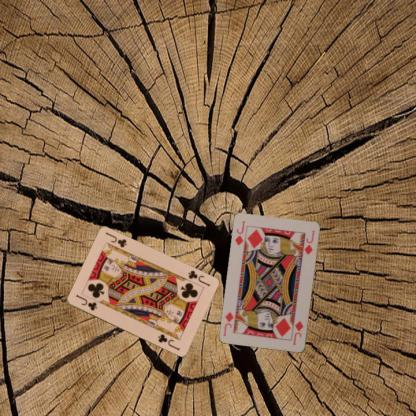Jc: (185, 268, 211, 288), (74, 292, 98, 312)
Jd: (290, 318, 304, 347), (232, 219, 246, 247)
